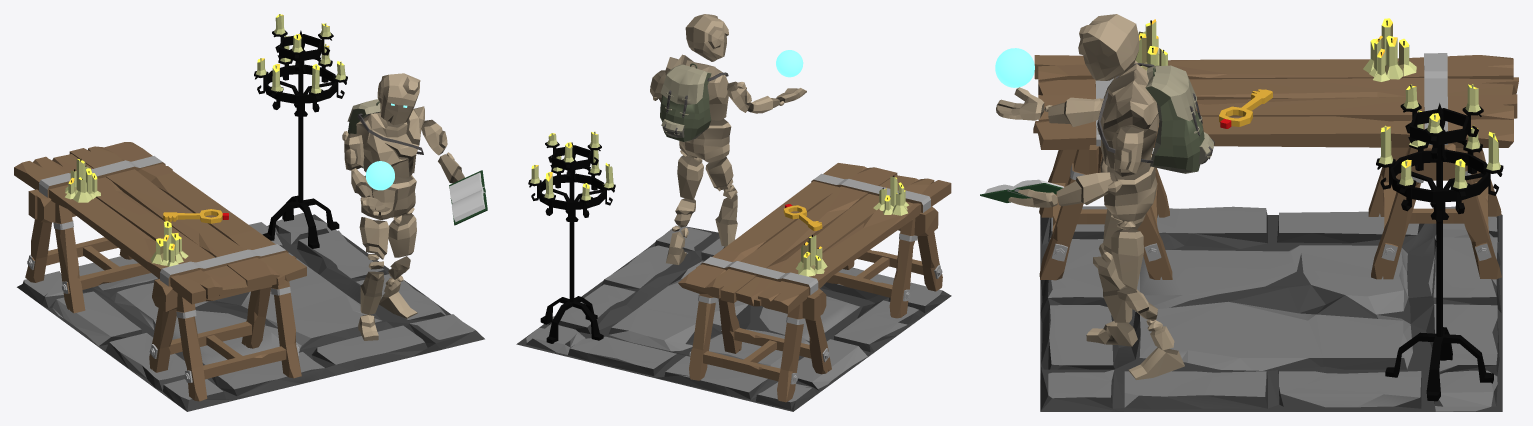
File: WayOutScene.gltf
3 views of the same model, side by side, from view 1: azimuth 30°, elevation 25°; view 2: azimuth 150°, elevation 25°; view 3: azimuth 270°, elevation 25° (orthographic). The views are drawn at different scales.
Visible parts, largest first — view 1: Table, Floor, SM_Prop_Candle_Stand_01, Chest, Head, Book_Open, Waist, UpperLeg.L, UpperLeg.R, Candles.001, Candles, Backpack (+10 smaller); view 2: Table, Floor, SM_Prop_Candle_Stand_01, Backpack, Head, Waist, Chest, UpperLeg.R, Candles, LowerLeg.L, Candles.001, UpperLeg.L (+5 smaller); view 3: Floor, Table, SM_Prop_Candle_Stand_01, Backpack, Chest, Head, Waist, Candles.001, UpperLeg.R, LowerArm.R, LowerLeg.L, LowerArm.L (+11 smaller).
Boxes of the visible parts, x1,y1,x2,y2 form: Table: [14, 142, 306, 401]; Floor: [17, 213, 484, 411]; SM_Prop_Candle_Stand_01: [254, 14, 347, 248]; Chest: [356, 106, 424, 177]; Head: [377, 73, 420, 125]; Book_Open: [449, 170, 487, 225]; Waist: [361, 175, 416, 220]; UpperLeg.L: [359, 217, 389, 269]; UpperLeg.R: [388, 207, 416, 257]; Candles.001: [65, 159, 100, 202]; Candles: [150, 221, 188, 266]; Backpack: [347, 99, 423, 168]; Table: [678, 163, 951, 402]; Floor: [516, 225, 951, 411]; SM_Prop_Candle_Stand_01: [528, 131, 615, 343]; Backpack: [660, 63, 728, 141]; Head: [685, 14, 728, 61]; Waist: [679, 119, 731, 162]; Chest: [665, 54, 728, 120]; UpperLeg.R: [677, 150, 703, 200]; Candles: [873, 175, 908, 215]; LowerLeg.L: [715, 194, 737, 246]; Candles.001: [795, 235, 827, 276]; UpperLeg.L: [705, 157, 737, 198]; Floor: [1040, 206, 1502, 411]; Table: [1033, 53, 1518, 280]; SM_Prop_Candle_Stand_01: [1376, 84, 1503, 401]; Backpack: [1097, 63, 1214, 173]; Chest: [1097, 64, 1159, 171]; Head: [1078, 14, 1139, 80]; Waist: [1100, 155, 1157, 221]; Candles.001: [1363, 18, 1416, 81]; UpperLeg.R: [1111, 220, 1143, 289]; LowerArm.R: [1056, 172, 1122, 206]; LowerLeg.L: [1093, 256, 1132, 322]; LowerArm.L: [1044, 97, 1103, 126].
Size of the model in its own units: 112 by 91.44 by 126.
